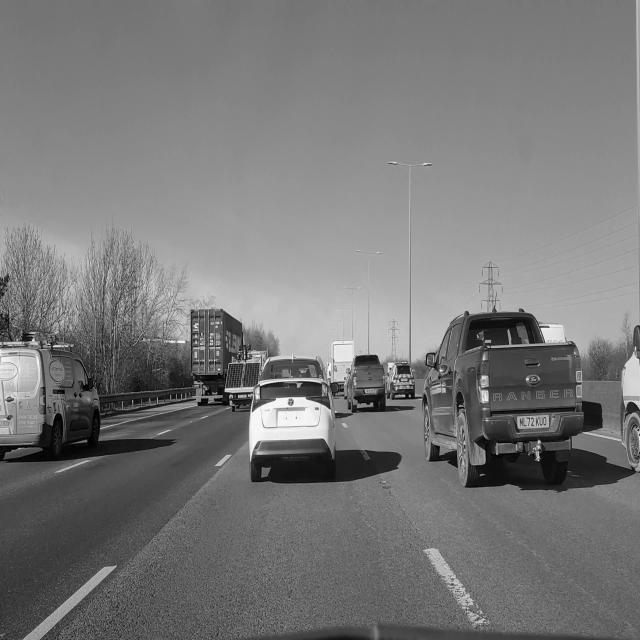car: (420, 306, 586, 494), (0, 334, 100, 459), (249, 356, 337, 481), (344, 350, 388, 415)
